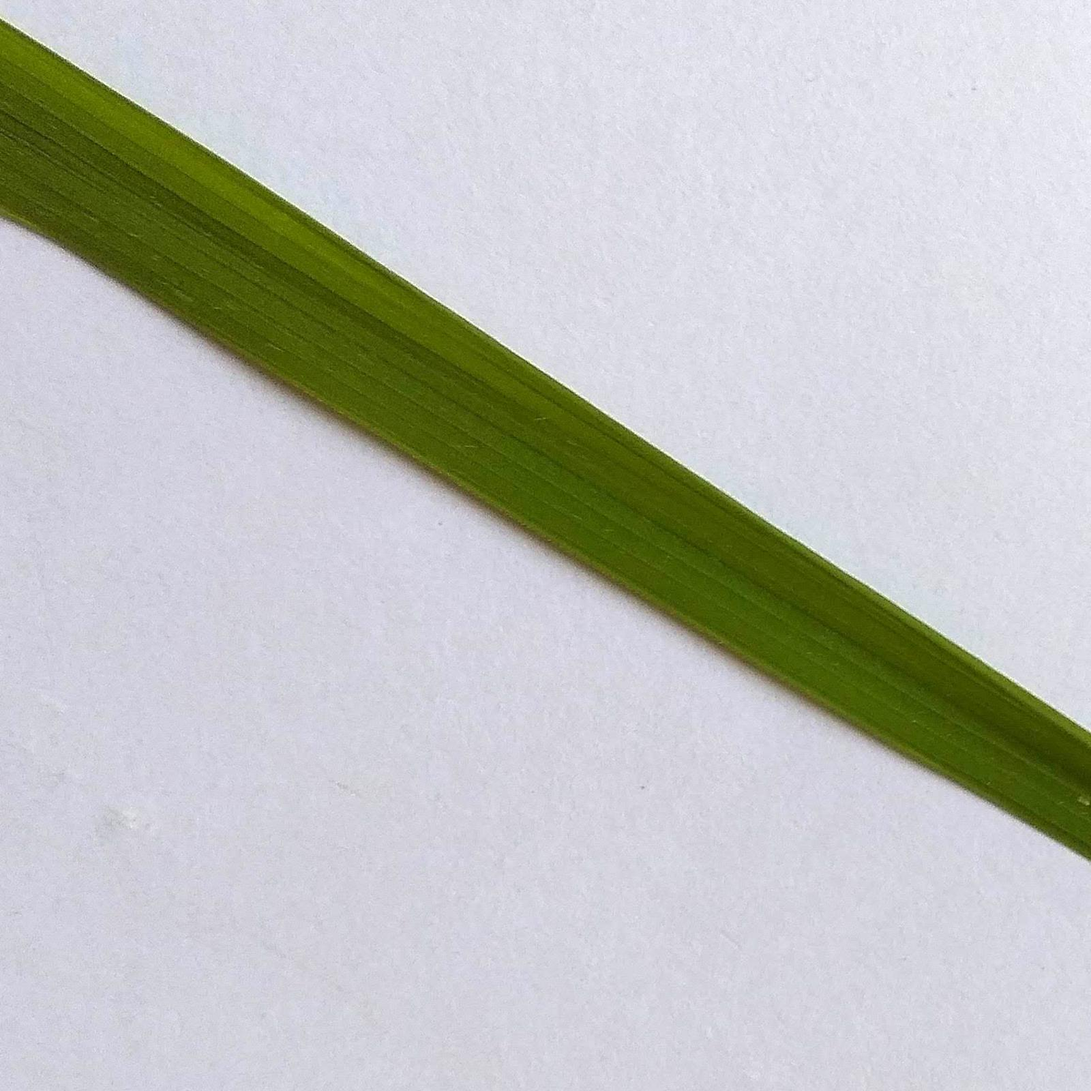Healthy: (0, 20, 1090, 858)
